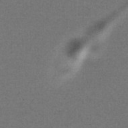abnormal: (80, 1, 128, 49)
